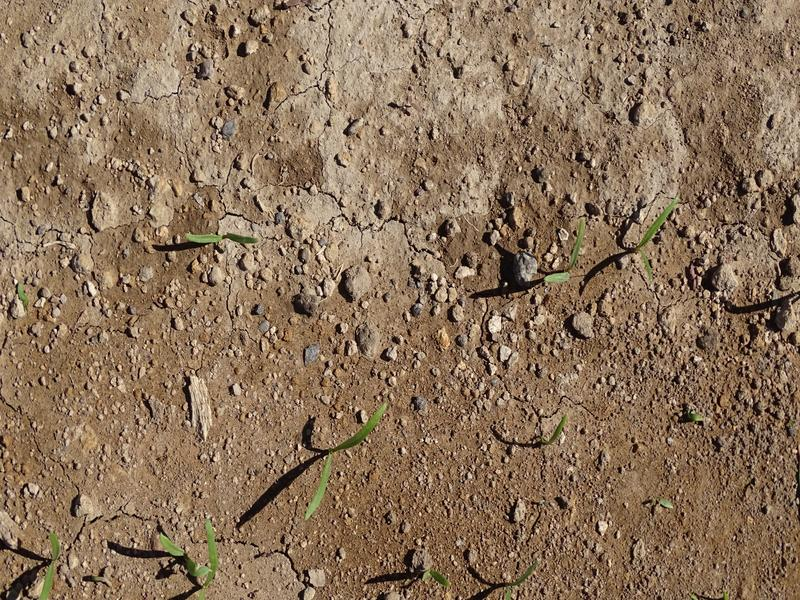Espinaca: (302, 399, 390, 522), (625, 191, 685, 289), (154, 513, 230, 587), (544, 214, 594, 285), (179, 225, 259, 252)
